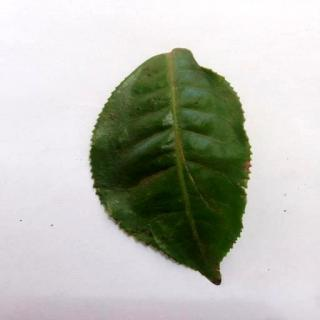Algal Leaf: (90, 46, 254, 284)
